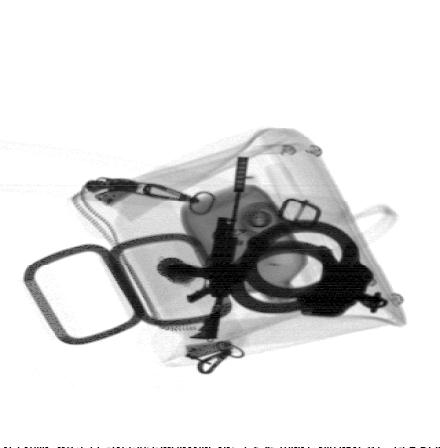Gun: (168, 156, 249, 341)
HandCuffs: (227, 217, 392, 320)
